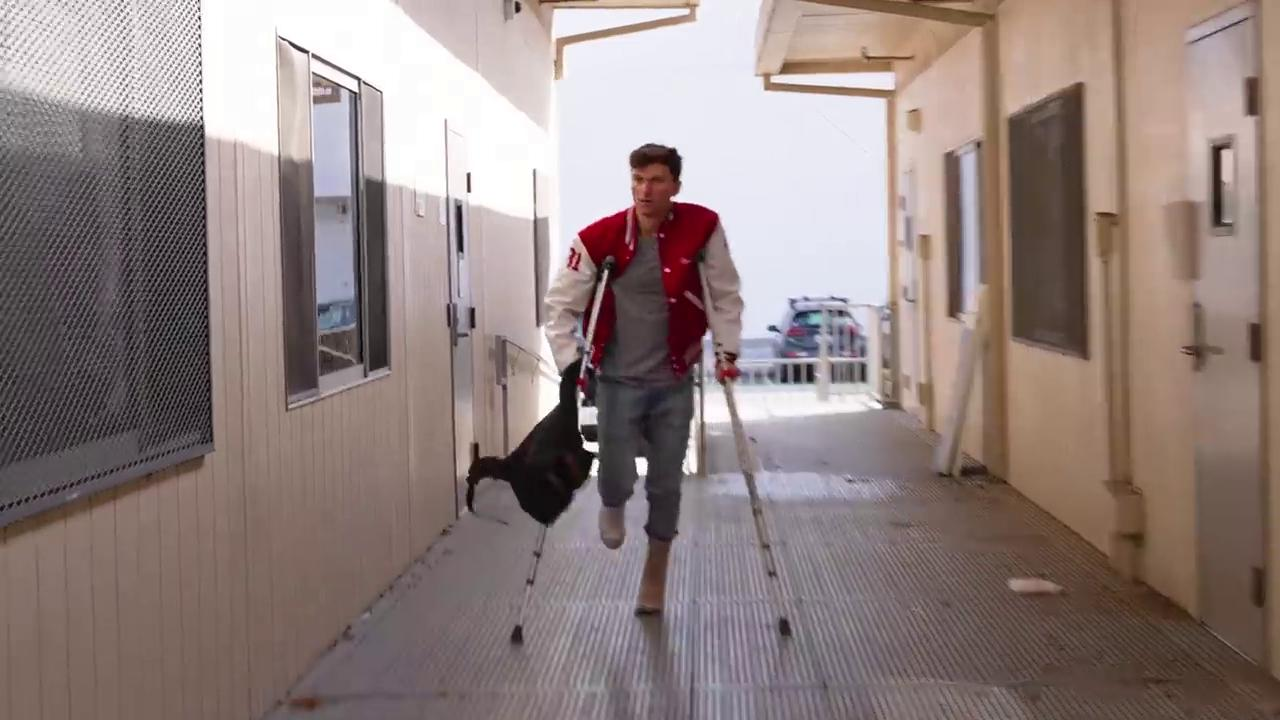crutches: (512, 143, 791, 642)
